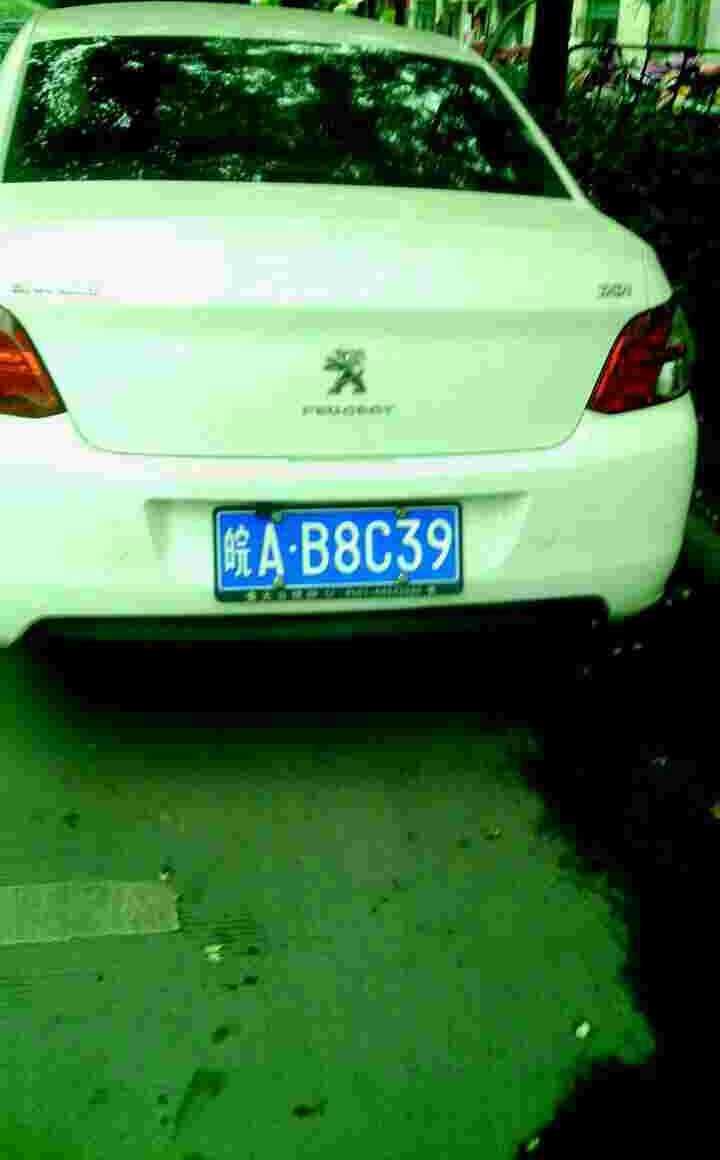license_plate: (223, 510, 458, 584)
